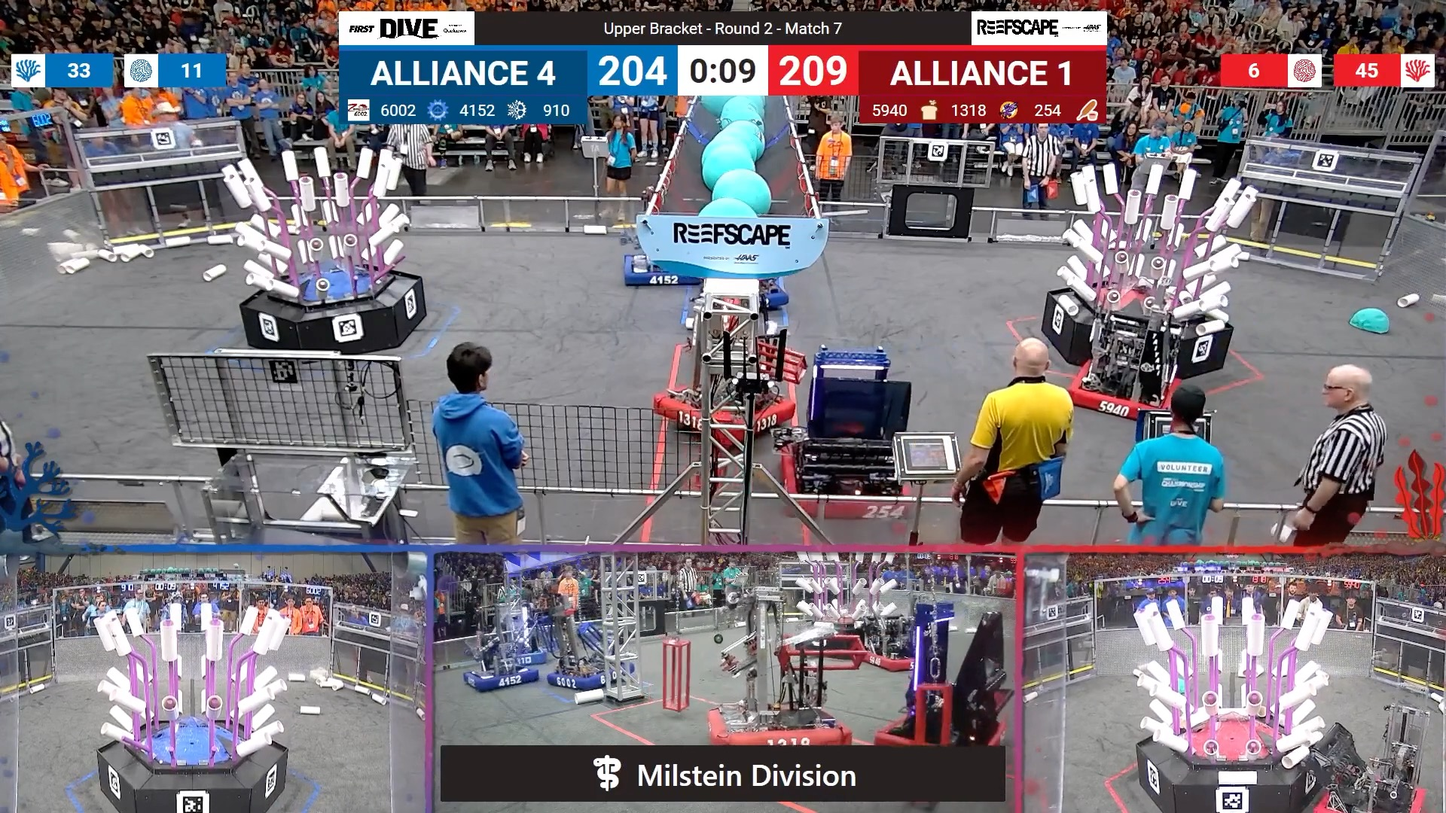bumpers: (770, 436, 916, 524), (653, 383, 800, 444), (1057, 362, 1186, 428), (708, 710, 855, 750), (1307, 776, 1431, 813), (454, 664, 543, 694), (616, 255, 682, 290), (541, 664, 633, 689), (752, 281, 795, 311)
